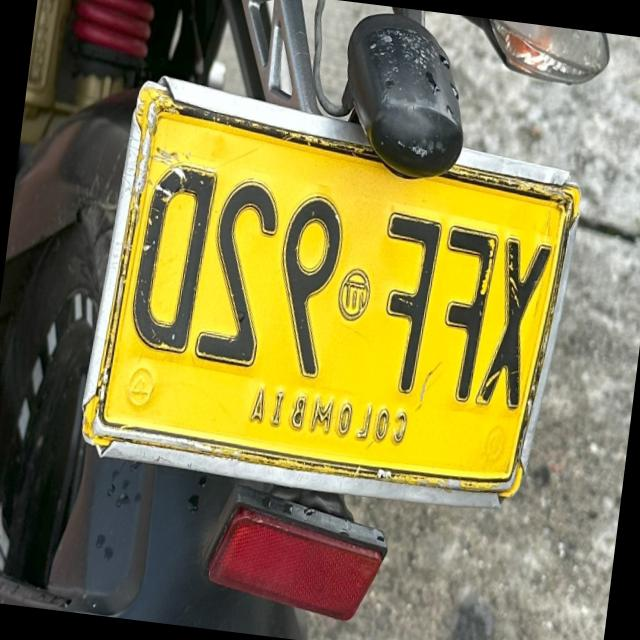number plate: (84, 77, 580, 503)
